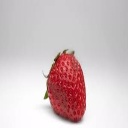strawberry: (45, 44, 89, 125)
